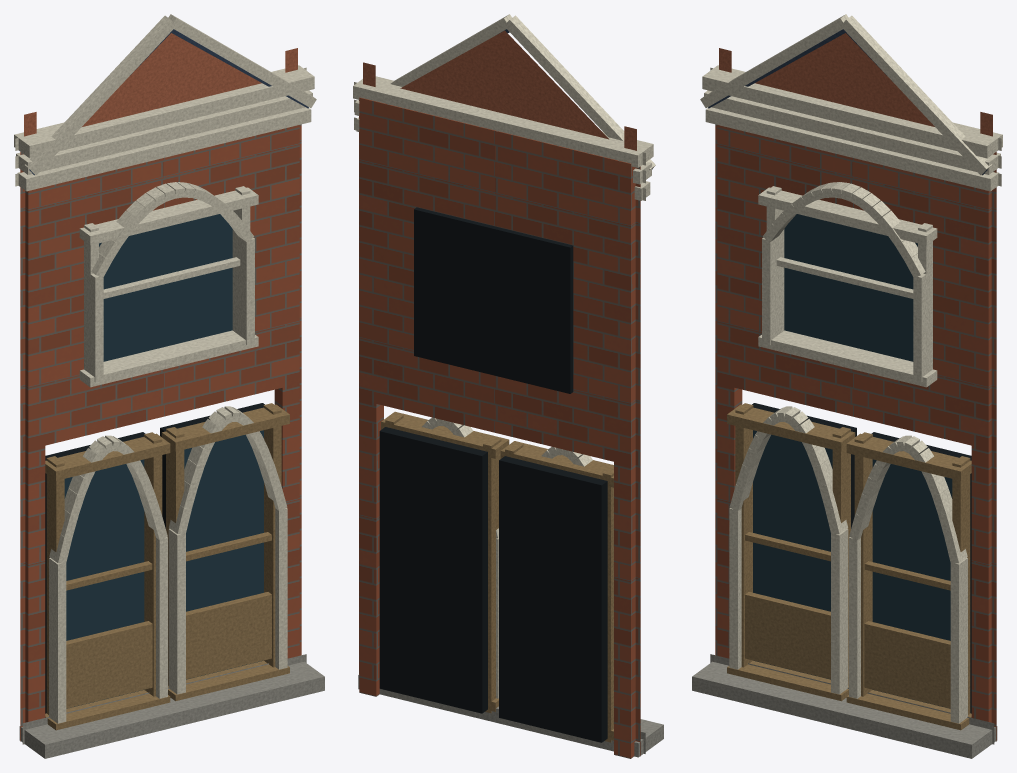
File: CLSTGA17_lod2.glb
3 views of the same model, side by side, from view 1: azimuth 30°, elevation 25°; view 2: azimuth 150°, elevation 25°; view 3: azimuth 330°, elevation 25° (orthographic).
Parts seen in each view (by area): view 1: CLSTGA17_FRONT_LOD2; view 2: CLSTGA17_FRONT_LOD2; view 3: CLSTGA17_FRONT_LOD2.
Part boxes in pixels (x1,y1,x2,y2): CLSTGA17_FRONT_LOD2: [14, 14, 324, 758]; CLSTGA17_FRONT_LOD2: [353, 14, 663, 758]; CLSTGA17_FRONT_LOD2: [692, 14, 1002, 758].
Bounding box in the file's own units: 3.44 × 7.86 × 0.68.
Materials: 9 (7 with a texture image).
